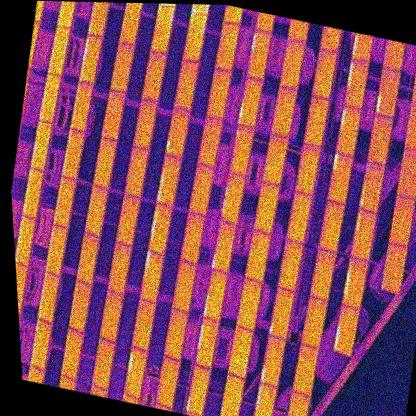Diode: (347, 207, 380, 262), (162, 103, 193, 161), (136, 249, 168, 305), (340, 56, 372, 110), (372, 65, 404, 119), (235, 75, 266, 130), (357, 160, 388, 214), (208, 220, 239, 274), (324, 153, 356, 205), (153, 153, 184, 206), (257, 334, 288, 387), (145, 201, 175, 255), (340, 255, 370, 309), (191, 315, 221, 369), (333, 104, 364, 156), (330, 303, 361, 355), (76, 33, 106, 86), (199, 269, 229, 322), (120, 346, 150, 399), (243, 28, 273, 81), (183, 365, 213, 416), (249, 382, 279, 416)
Hotspot: (363, 112, 395, 167), (217, 172, 249, 225), (266, 287, 296, 340)
Normal: (184, 161, 217, 216), (268, 83, 300, 139), (195, 114, 227, 170), (242, 229, 274, 285), (275, 37, 308, 91), (226, 123, 258, 178), (233, 276, 265, 331), (298, 295, 330, 350), (250, 180, 282, 234), (283, 190, 315, 244), (203, 66, 234, 121), (98, 87, 129, 142), (259, 132, 290, 187), (211, 19, 242, 74), (42, 22, 73, 77), (378, 242, 410, 295), (300, 94, 331, 148), (176, 211, 207, 265), (88, 337, 119, 391), (316, 200, 347, 253), (274, 239, 305, 292), (225, 326, 256, 379), (290, 344, 321, 397), (309, 46, 340, 99), (108, 40, 138, 94), (171, 57, 201, 111), (293, 142, 323, 196), (307, 248, 337, 302), (169, 260, 199, 314), (97, 290, 127, 344), (128, 297, 158, 351), (161, 308, 191, 362), (49, 173, 78, 228), (139, 50, 169, 103), (66, 81, 96, 134), (130, 97, 160, 150), (386, 194, 416, 247), (90, 136, 120, 189), (121, 144, 151, 197), (72, 232, 102, 285), (147, 3, 177, 56), (113, 194, 142, 248), (153, 355, 182, 409), (35, 71, 65, 123), (58, 328, 87, 381), (180, 12, 209, 65), (66, 280, 94, 334), (27, 119, 56, 171), (82, 184, 110, 237), (104, 242, 132, 295), (34, 271, 62, 324), (58, 128, 87, 179), (18, 167, 46, 219), (42, 224, 69, 276), (27, 318, 54, 370), (216, 372, 247, 416), (117, 3, 146, 47), (13, 216, 38, 267), (394, 147, 416, 201), (84, 2, 113, 39), (54, 1, 83, 30), (282, 389, 311, 416), (15, 261, 30, 313), (402, 99, 416, 152), (408, 53, 416, 103)
